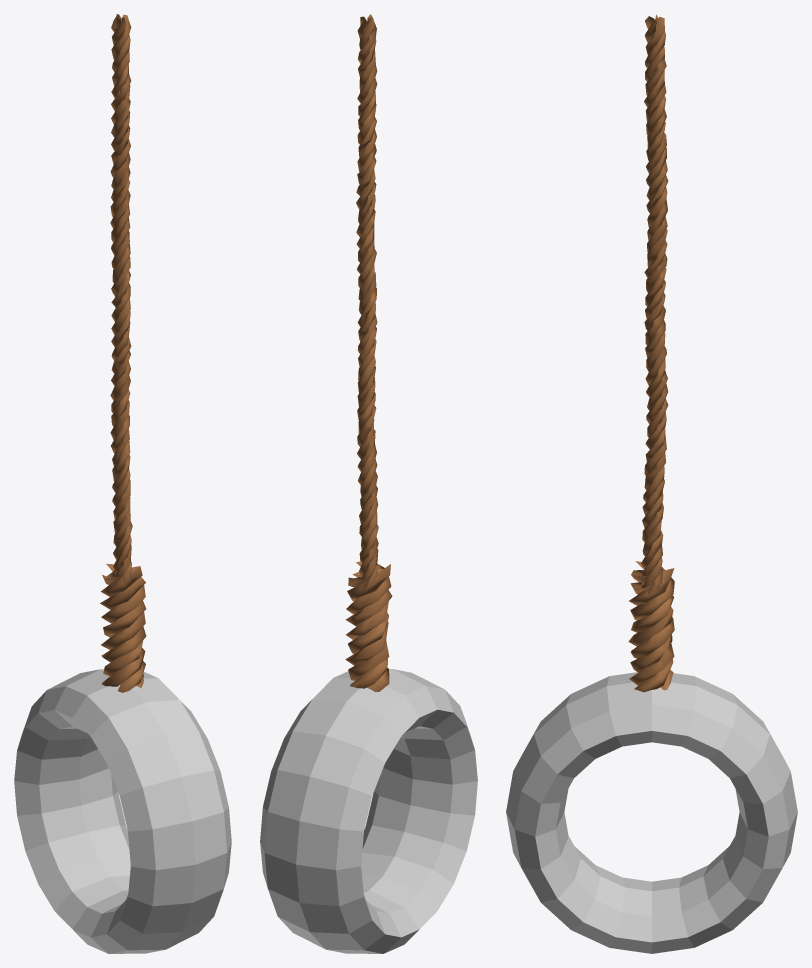
Rendered from tire_swing_model.obj.
3 views of the same model, side by side, from view 1: azimuth 30°, elevation 25°; view 2: azimuth 150°, elevation 25°; view 3: azimuth 270°, elevation 25° (orthographic).
Parts seen in each view (by area): view 1: Torus, Circle, Circle.001; view 2: Torus, Circle, Circle.001; view 3: Torus, Circle, Circle.001.
Part boxes in pixels (box(x1,y1,x2,y2)): Torus: box(14, 669, 231, 953); Circle: box(110, 14, 132, 670); Circle.001: box(100, 563, 146, 692); Torus: box(260, 669, 477, 953); Circle: box(356, 14, 378, 650); Circle.001: box(345, 561, 392, 691); Torus: box(506, 672, 797, 953); Circle: box(641, 14, 668, 594); Circle.001: box(628, 561, 674, 692).
Size of the model in its own units: 0.9994 by 8.77 by 2.5.
